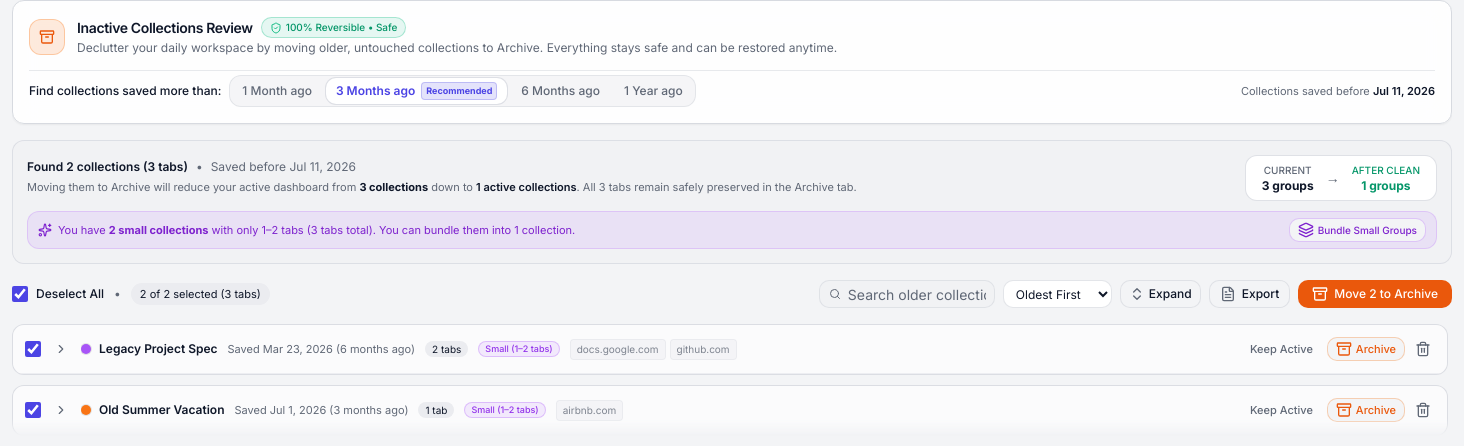
Test case: <StaleTabsTool /> Power Tool Component Suite › switches time horizon filter to 1 Month and 6 Months
Switch to 6 Months (180 days)
Click the button "6 Months ago" at (561, 91), box [511,79,610,103]
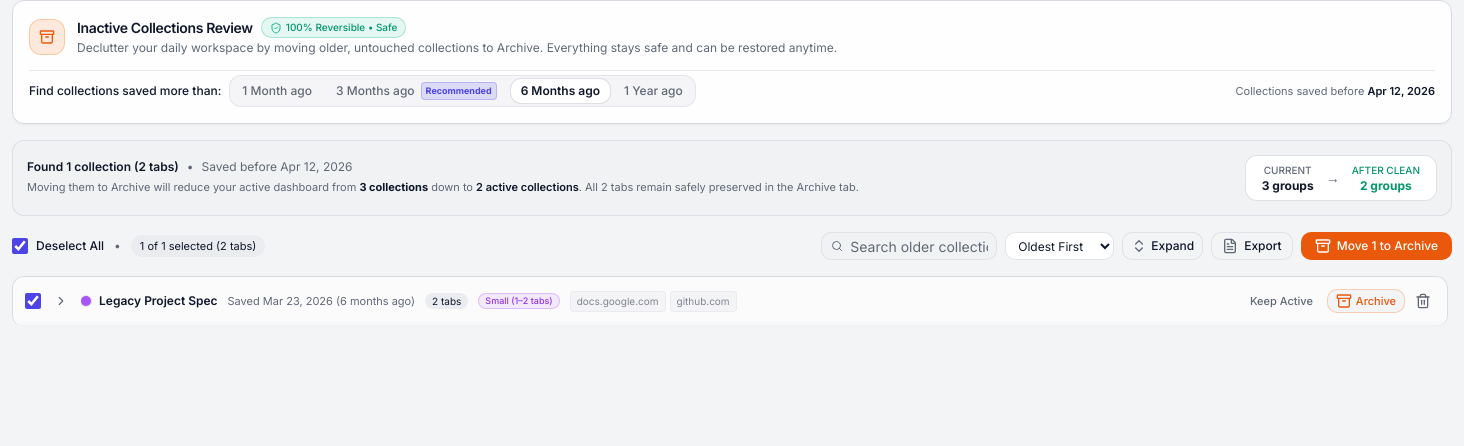
Expected: the text "Legacy Project Spec" is shown, [99,293,218,309]
Expected: the text "Old Summer Vacation" is gone
Switch to 1 Month (30 days)
Click the button "1 Month ago" at (277, 91), box [232,79,322,103]
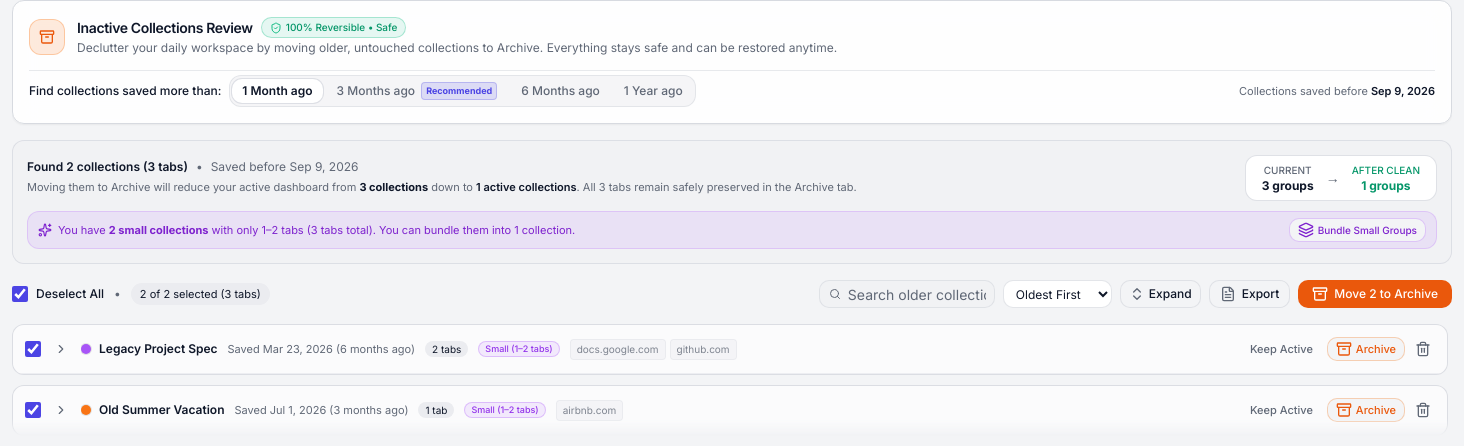
Expected: the text "Legacy Project Spec" is shown, [99,341,218,357]
Expected: the text "Old Summer Vacation" is shown, [99,402,224,418]
